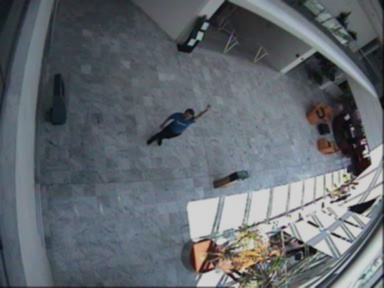person: (146, 105, 210, 146), (327, 186, 357, 200)
